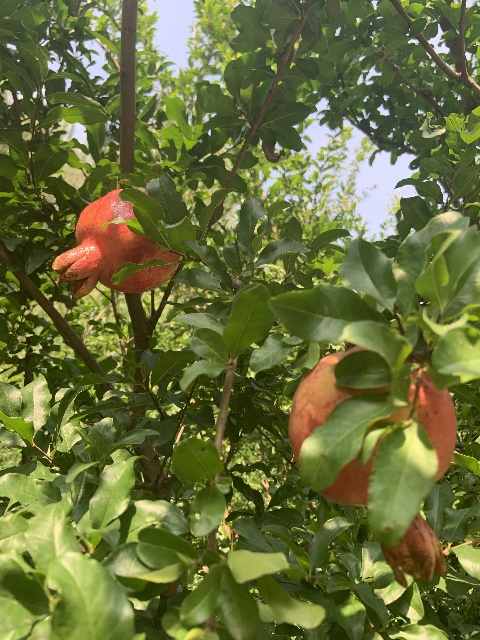ripe: (289, 345, 456, 588), (52, 188, 180, 299)
